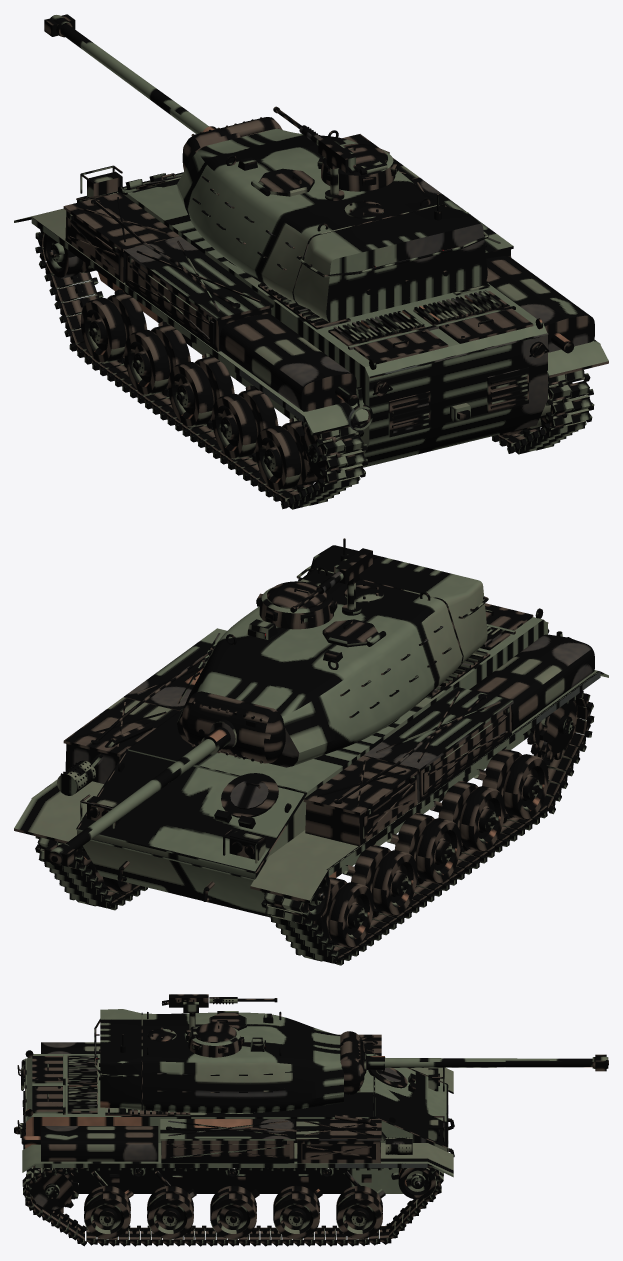
File: M41_Tank.fbx
3 views of the same model, one above another, from view 1: azimuth 30°, elevation 25°; view 2: azimuth 150°, elevation 25°; view 3: azimuth 270°, elevation 25° (orthographic). The views are drawn at different scales.
Visible parts, largest first — view 1: Hull, Turret, Wheel_L4, Wheel_L3, Wheel_L5, Wheel_L2, Wheel_L1, Gun, Cupola, Hatch_Loader, MG, Idler_L (+5 smaller); view 2: Hull, Turret, Gun, Wheel_L1, Wheel_L4, Wheel_L3, Wheel_L2, Wheel_L5, Sprocket_L, Cupola, Hatch_Loader, Hatch_Commander (+2 smaller); view 3: Hull, Turret, Gun, Wheel_R1, Wheel_R4, Wheel_R2, Wheel_R3, Wheel_R5, Sprocket_R, MG, Idler_R, Cupola (+2 smaller).
Part boxes in pixels (x1,y1,x2,y2): Hull: (14, 134, 608, 467); Turret: (177, 117, 488, 322); Wheel_L4: (124, 324, 190, 395); Wheel_L3: (168, 356, 234, 427); Wheel_L5: (80, 292, 147, 363); Wheel_L2: (212, 388, 278, 459); Wheel_L1: (255, 420, 315, 491); Gun: (44, 14, 216, 133); Cupola: (317, 148, 398, 191); Hatch_Loader: (251, 168, 314, 196); MG: (273, 106, 360, 174); Idler_L: (43, 233, 95, 278); Hull: (14, 603, 608, 917); Turret: (177, 545, 488, 767); Gun: (44, 727, 230, 866); Wheel_L1: (482, 749, 548, 819); Wheel_L4: (351, 845, 417, 915); Wheel_L3: (394, 813, 460, 883); Wheel_L2: (438, 781, 504, 851); Wheel_L5: (313, 877, 373, 947); Sprocket_L: (527, 700, 579, 760); Cupola: (256, 587, 337, 629); Hatch_Loader: (322, 619, 386, 647); Hatch_Commander: (267, 578, 326, 609); Hull: (14, 1034, 454, 1198); Turret: (94, 1009, 366, 1114); Gun: (366, 1054, 608, 1071); Wheel_R1: (84, 1185, 130, 1239); Wheel_R4: (273, 1185, 319, 1239); Wheel_R2: (147, 1185, 193, 1239); Wheel_R3: (210, 1185, 256, 1239); Wheel_R5: (336, 1185, 382, 1239); Sprocket_R: (30, 1168, 78, 1215); MG: (162, 994, 277, 1012); Idler_R: (398, 1168, 436, 1199); Cupola: (186, 1026, 244, 1057).
Size of the model in its own units: 3.52 by 3.14 by 8.4.
Materials: 1 (1 with a texture image).
